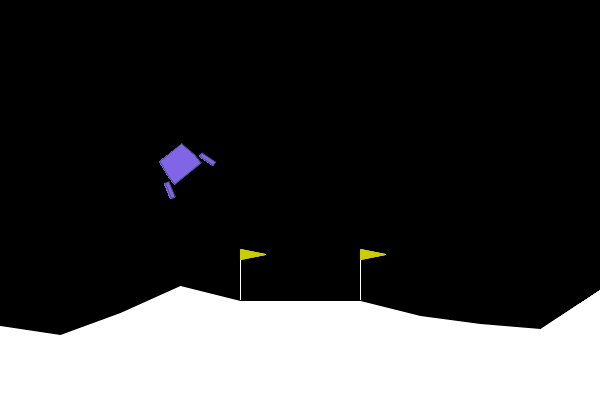lander: (146, 132, 218, 201)
